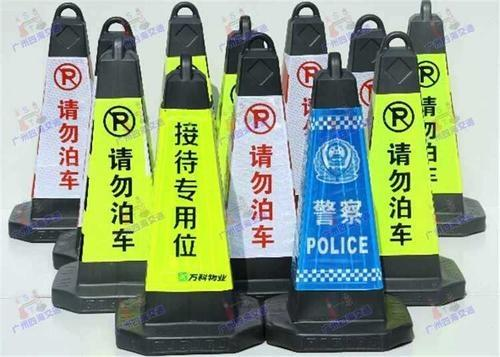cone_barrel: (277, 49, 395, 338), (139, 59, 241, 334), (61, 41, 153, 292), (367, 38, 455, 298), (221, 30, 303, 296), (405, 1, 480, 227), (18, 10, 93, 225), (276, 3, 332, 111), (160, 4, 213, 94)
